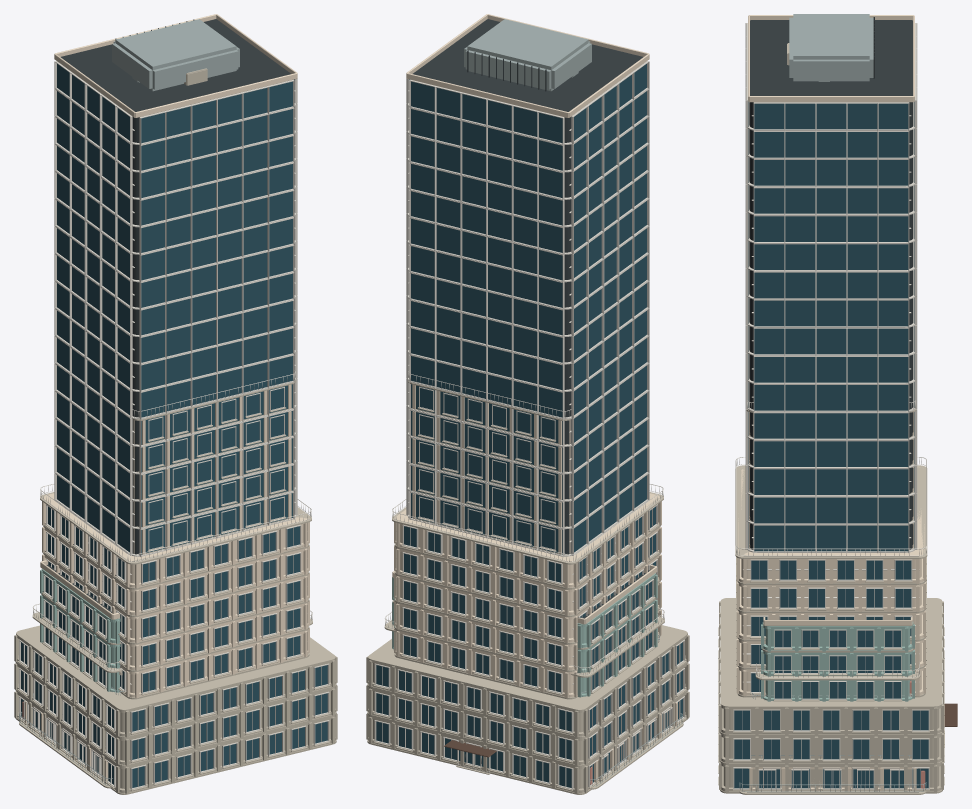
The model's file is coastal-kit.glb.
3 views of the same model, side by side, from view 1: azimuth 30°, elevation 25°; view 2: azimuth 150°, elevation 25°; view 3: azimuth 270°, elevation 25° (orthographic). The views are drawn at different scales.
Parts seen in each view (by area): view 1: tower_glass__glazing_blue, tower_glass__frame_ivory, tower_setback__plaster_ivory, tower_glass__concrete_warm, tower_setback__frame_ivory, tower_setback__glazing_blue, tower_glass__roof_graphite, tower_setback__concrete_warm, tower_glass__metal_satin, hotel_colonnade__plaster_mint, tower_glass__plaster_ivory, hotel_colonnade__frame_ivory (+6 smaller); view 2: tower_glass__glazing_blue, tower_glass__frame_ivory, tower_setback__plaster_ivory, tower_glass__concrete_warm, tower_setback__frame_ivory, tower_setback__glazing_blue, tower_glass__roof_graphite, tower_setback__concrete_warm, tower_glass__metal_satin, hotel_colonnade__plaster_mint, tower_glass__plaster_ivory, hotel_colonnade__frame_ivory (+4 smaller); view 3: tower_glass__glazing_blue, tower_glass__frame_ivory, tower_glass__concrete_warm, tower_glass__roof_graphite, tower_setback__plaster_ivory, hotel_colonnade__plaster_mint, tower_glass__metal_satin, tower_setback__glazing_blue, tower_setback__concrete_warm, hotel_colonnade__glazing_blue, tower_setback__frame_ivory, hotel_colonnade__frame_ivory (+8 smaller).
Part boxes in pixels (left/top/right/bottom): tower_glass__glazing_blue: left=21, top=64, right=327, bottom=787; tower_glass__frame_ivory: left=19, top=61, right=329, bottom=789; tower_setback__plaster_ivory: left=42, top=384, right=309, bottom=698; tower_glass__concrete_warm: left=14, top=68, right=337, bottom=794; tower_setback__frame_ivory: left=40, top=371, right=311, bottom=693; tower_setback__glazing_blue: left=48, top=506, right=299, bottom=692; tower_glass__roof_graphite: left=60, top=19, right=290, bottom=554; tower_setback__concrete_warm: left=40, top=380, right=311, bottom=699; tower_glass__metal_satin: left=112, top=19, right=239, bottom=91; hotel_colonnade__plaster_mint: left=40, top=568, right=120, bottom=692; tower_glass__plaster_ivory: left=54, top=14, right=297, bottom=117; hotel_colonnade__frame_ivory: left=33, top=574, right=312, bottom=687; tower_glass__glazing_blue: left=376, top=64, right=682, bottom=787; tower_glass__frame_ivory: left=374, top=61, right=684, bottom=789; tower_setback__plaster_ivory: left=394, top=384, right=661, bottom=698; tower_glass__concrete_warm: left=366, top=625, right=689, bottom=794; tower_setback__frame_ivory: left=392, top=371, right=663, bottom=693; tower_setback__glazing_blue: left=404, top=506, right=655, bottom=692; tower_glass__roof_graphite: left=413, top=19, right=643, bottom=554; tower_setback__concrete_warm: left=392, top=380, right=663, bottom=699; tower_glass__metal_satin: left=464, top=19, right=591, bottom=91; hotel_colonnade__plaster_mint: left=392, top=573, right=657, bottom=697; tower_glass__plaster_ivory: left=406, top=14, right=649, bottom=117; hotel_colonnade__frame_ivory: left=385, top=579, right=664, bottom=692; tower_glass__glazing_blue: left=734, top=102, right=928, bottom=788; tower_glass__frame_ivory: left=719, top=23, right=942, bottom=789; tower_glass__concrete_warm: left=718, top=43, right=944, bottom=793; tower_glass__roof_graphite: left=749, top=17, right=913, bottom=549; tower_setback__plaster_ivory: left=736, top=412, right=925, bottom=696; hotel_colonnade__plaster_mint: left=761, top=622, right=914, bottom=701; tower_glass__metal_satin: left=789, top=14, right=873, bottom=81; tower_setback__glazing_blue: left=751, top=560, right=911, bottom=691; tower_setback__concrete_warm: left=735, top=409, right=927, bottom=697; hotel_colonnade__glazing_blue: left=775, top=630, right=900, bottom=698; tower_setback__frame_ivory: left=735, top=400, right=926, bottom=693; hotel_colonnade__frame_ivory: left=756, top=629, right=919, bottom=699.
Size of the model in its own units: 30.25 by 87.69 by 27.02.
